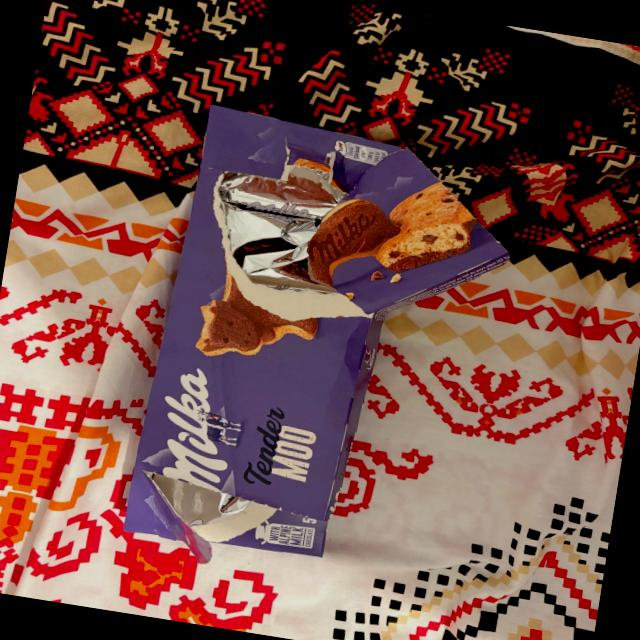damaged_package: (120, 100, 526, 606)
